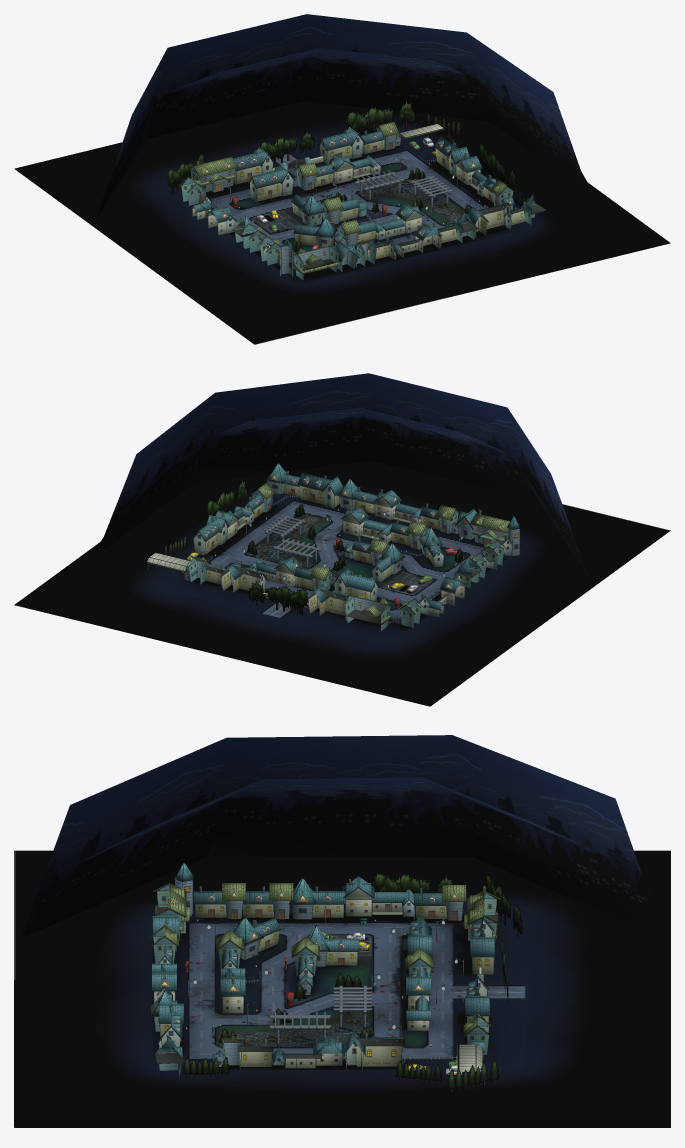
The model's file is village.FBX.
3 views of the same model, one above another, from view 1: azimuth 30°, elevation 25°; view 2: azimuth 150°, elevation 25°; view 3: azimuth 270°, elevation 25° (orthographic). The views are drawn at different scales.
Parts seen in each view (by area): view 1: floor_02, sky, sky1, floor_03, tree_05, house_14, house_12, house_21, house_09, house_06, house_11, house_13 (+22 smaller); view 2: floor_02, sky, sky1, floor_03, house_26, house_14, house_06, tree_20, house_24, house_01, house_12, house_21 (+21 smaller); view 3: floor_02, sky, floor_03, sky1, house_16, house_01, house_17, house_19, house_15, house_18, house_29, house_28 (+25 smaller).
Boxes of the visible parts, x1,y1,x2,y2 form: floor_02: (14, 101, 670, 344); sky: (96, 14, 588, 218); sky1: (93, 48, 592, 215); floor_03: (162, 129, 531, 284); tree_05: (346, 100, 415, 135); house_14: (187, 157, 237, 192); house_12: (248, 164, 295, 201); house_21: (292, 240, 341, 280); house_09: (318, 127, 365, 163); house_06: (372, 202, 424, 240); house_11: (326, 154, 381, 183); house_13: (233, 147, 274, 184); floor_02: (14, 460, 670, 706); sky: (96, 373, 589, 578); sky1: (93, 407, 590, 579); floor_03: (155, 493, 525, 644); house_26: (297, 472, 343, 508); house_14: (343, 593, 393, 631); house_06: (341, 505, 392, 542); tree_20: (248, 581, 308, 615); house_24: (373, 489, 421, 523); house_01: (192, 515, 229, 555); house_12: (332, 568, 379, 601); house_21: (470, 509, 520, 546); floor_02: (14, 850, 670, 1127); sky: (21, 735, 664, 937); floor_03: (152, 913, 525, 1069); sky1: (23, 777, 662, 937); house_16: (342, 876, 415, 916); house_01: (343, 1031, 404, 1072); house_17: (289, 877, 345, 919); house_19: (193, 883, 245, 919); house_15: (414, 885, 466, 920); house_18: (242, 883, 293, 919); house_29: (272, 1035, 345, 1068); house_28: (212, 1035, 273, 1069).
Size of the model in its own units: 160 by 54.62 by 160.
